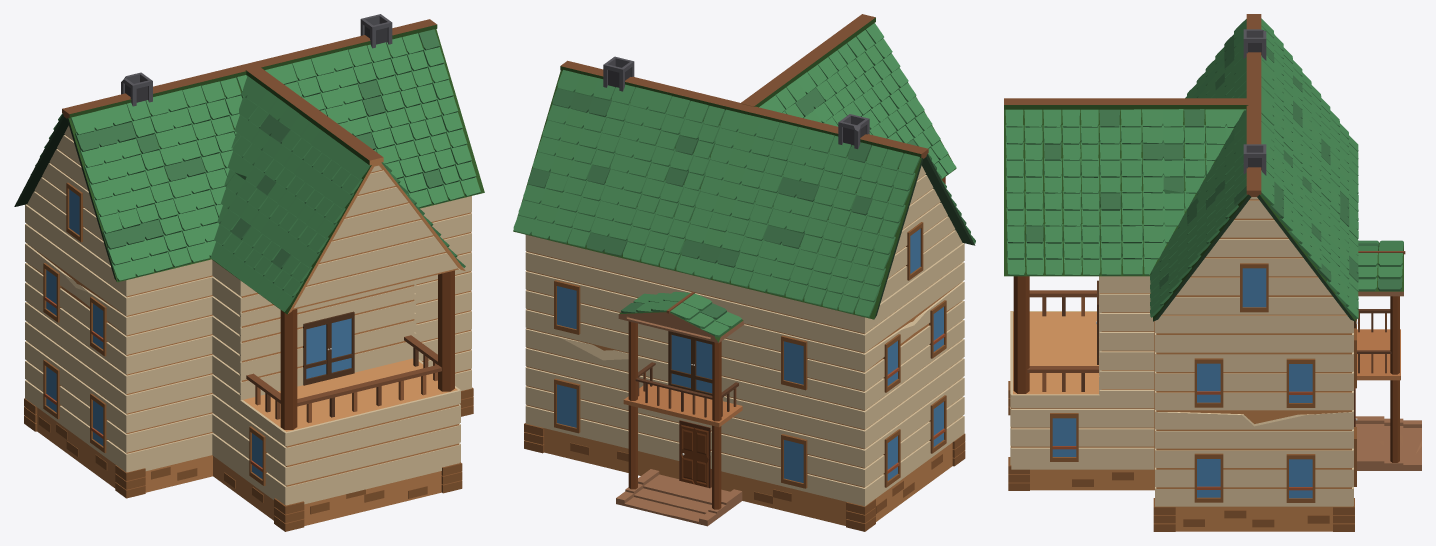
The model's file is House_4.fbx.
The picture shows the model from 3 angles, left to right: view 1: azimuth 30°, elevation 25°; view 2: azimuth 150°, elevation 25°; view 3: azimuth 270°, elevation 25°; orthographic projection.
Visible parts, largest first — view 1: MainHouse.001; view 2: MainHouse.001; view 3: MainHouse.001.
Part boxes in pixels (box(x1,y1,x2,y2)): MainHouse.001: box(14, 14, 484, 531); MainHouse.001: box(513, 14, 975, 531); MainHouse.001: box(1004, 14, 1421, 531).
Bounding box in the file's own units: 1163 × 1108 × 1162.
